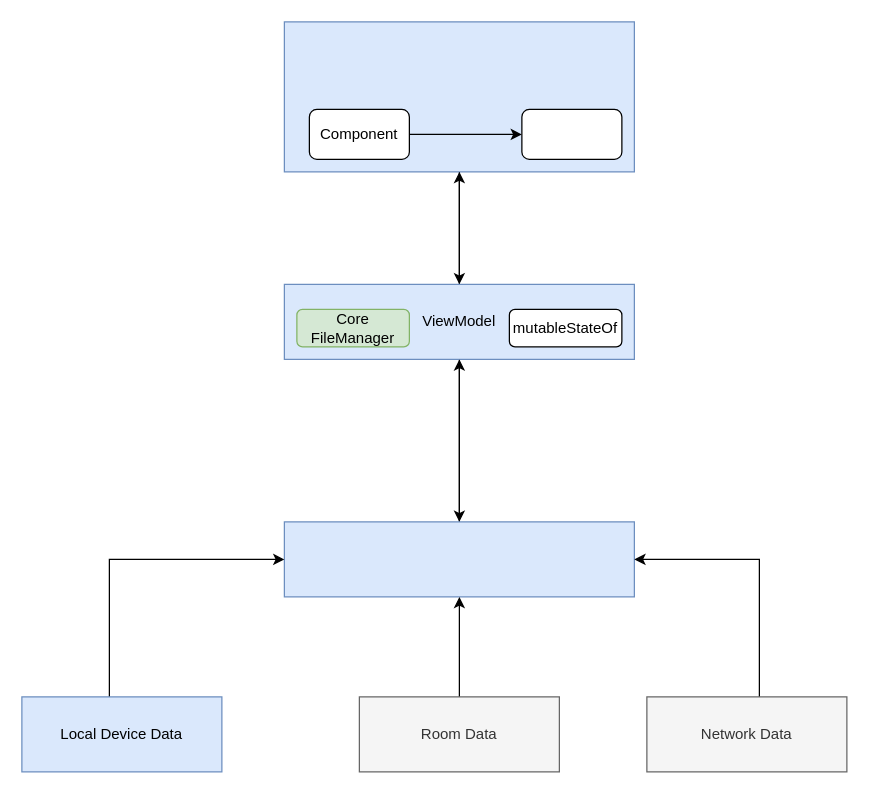
The diagram is 869 pixels wide and 794 high, and some of its shapes have lost their labels. The shapes that lost their labels are listed below. From the top down, each one's box as (x1, y1, x2, y2) in pixels, then its label:
(283, 21, 634, 172): View
(521, 108, 622, 159): Screen
(283, 521, 634, 597): Repository
